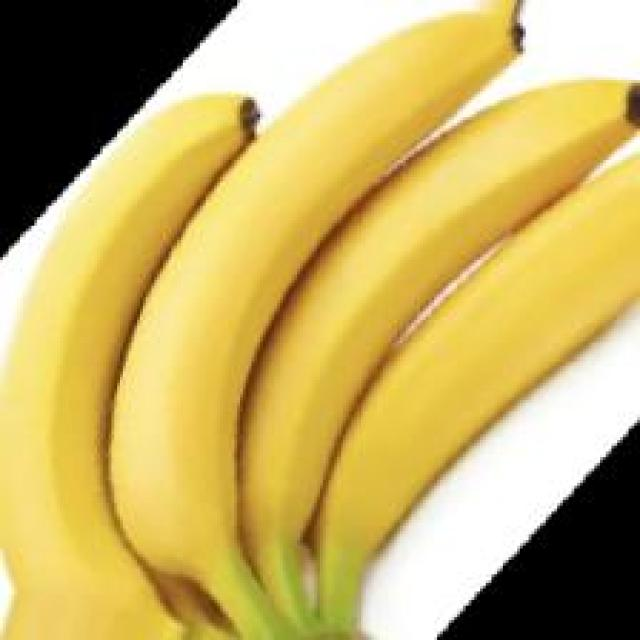banana: (23, 12, 631, 638)
